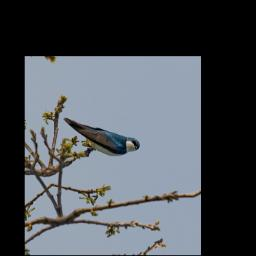Swallow: (61, 100, 145, 169)
